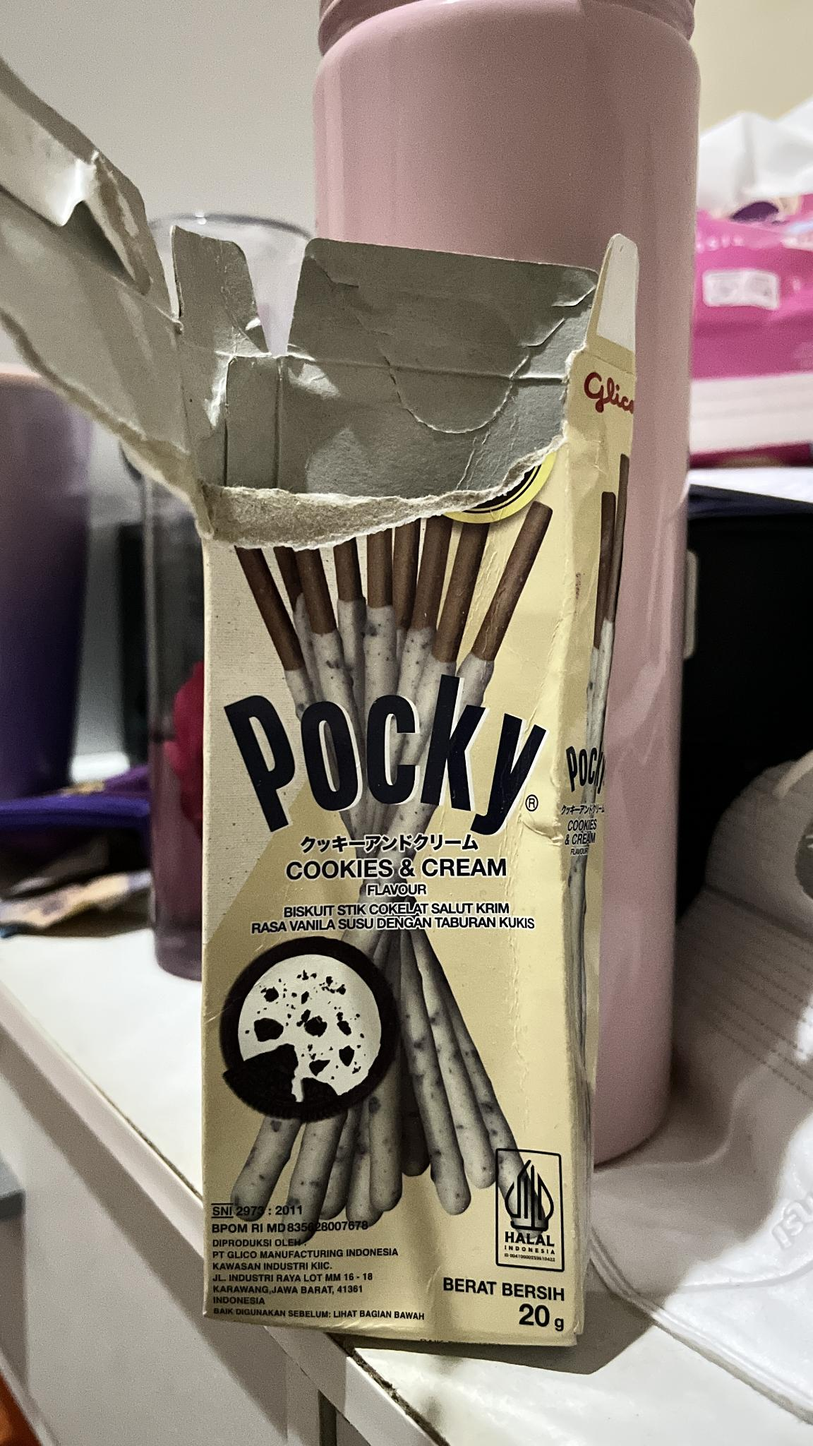Kertas: (197, 373, 634, 1356)
